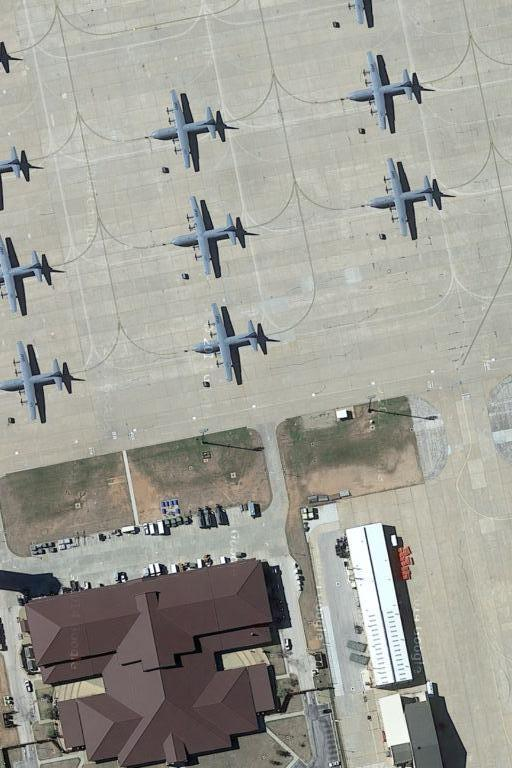C-130: (1, 340, 82, 428), (147, 88, 232, 170), (192, 306, 276, 386), (170, 196, 251, 278), (344, 53, 421, 136), (369, 155, 444, 240), (1, 231, 58, 318)
